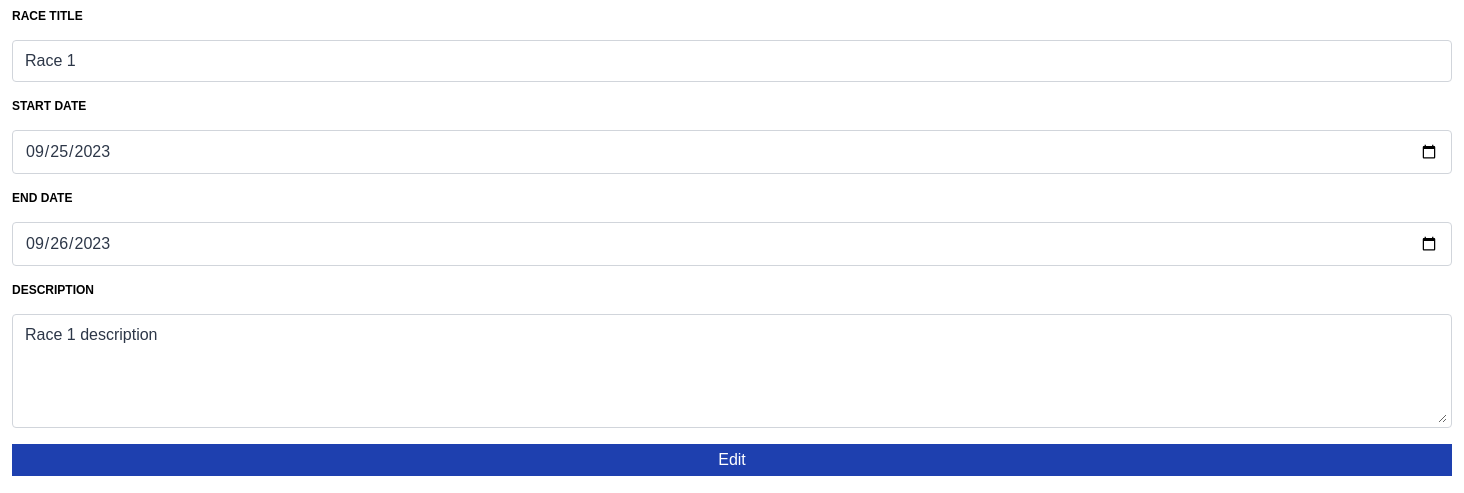
Test: RaceInformationView Component › renders race details and allows editing
Expected: the date field labelled "Start Date" holds "2023-09-25", [17, 135, 1447, 169]
Expected: the date field labelled "End Date" holds "2023-09-26", [17, 227, 1447, 261]
Note: Simulate editing events the race title
Replace the text in the field with placeholder "Provide title" with "Updated Race 1" at (732, 61), box [17, 45, 1447, 77]
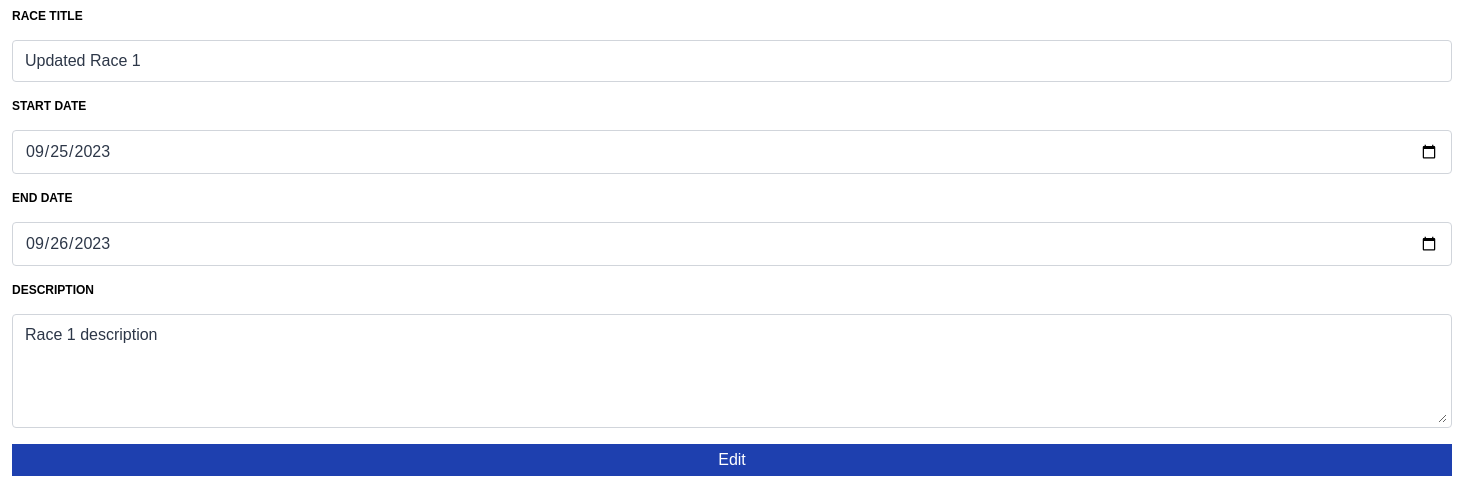
Type "2023-09-20" into the date field labelled "Start Date" at (732, 152), box [17, 135, 1447, 169]
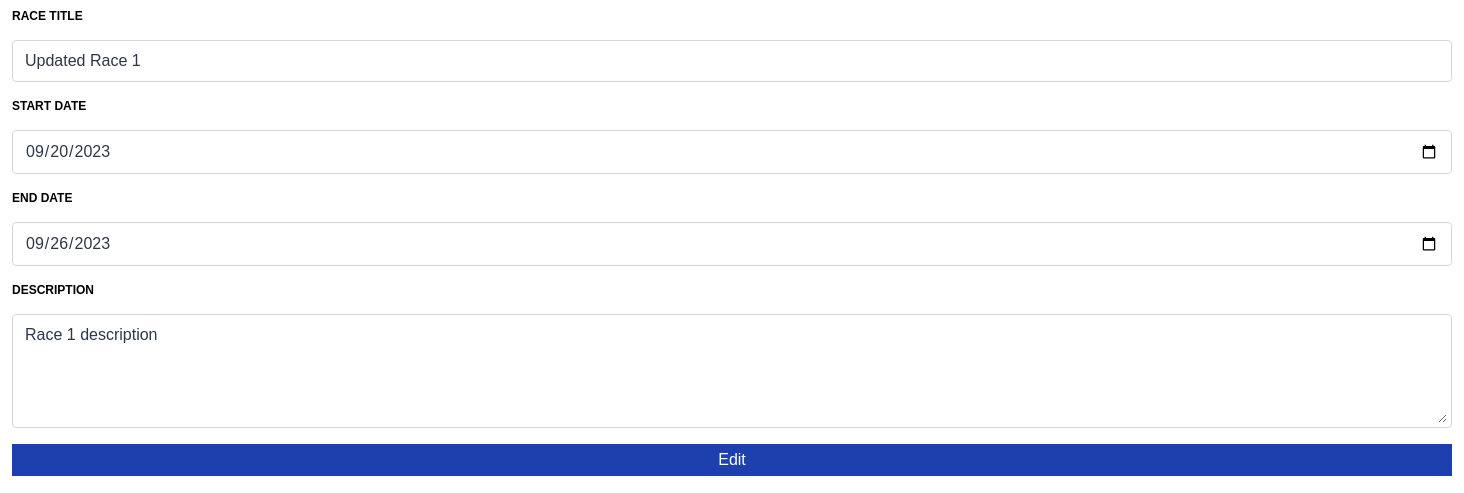
Type "2023-09-21" into the date field labelled "End Date" at (732, 244), box [17, 227, 1447, 261]
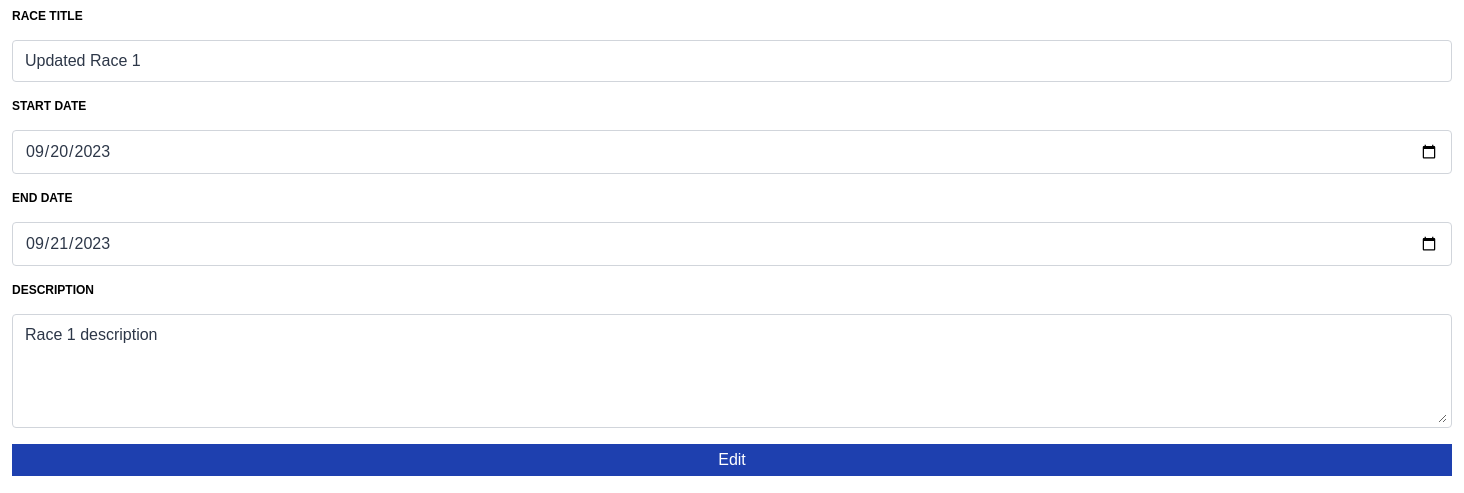
Note: Submit the form
Submit the form from the button "Edit", box [12, 444, 1452, 476]
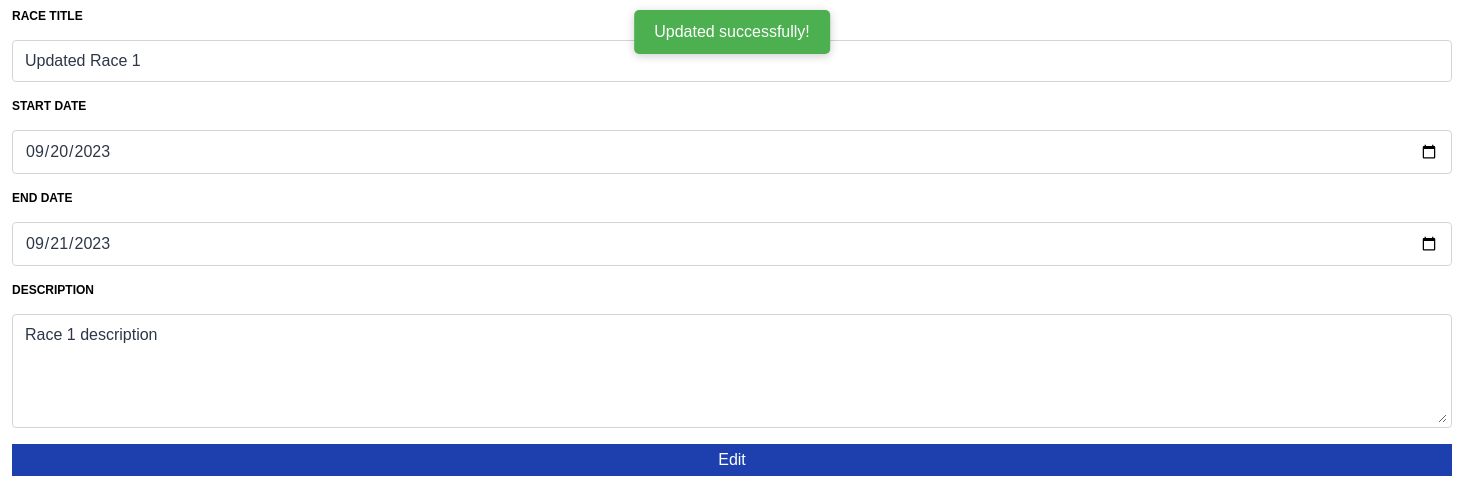
Expected: the text "Updated successfully!" is shown, [634, 10, 830, 54]
